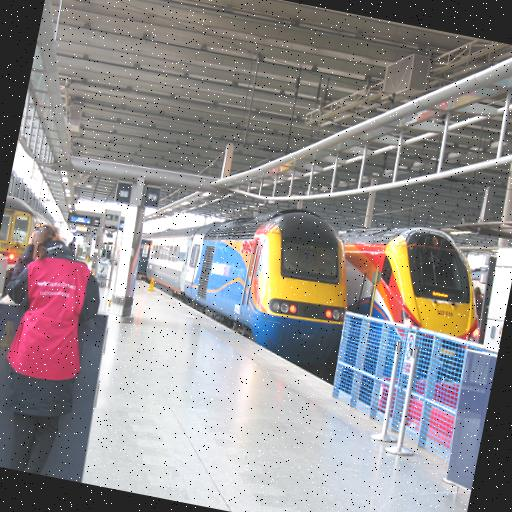platform_edge: (172, 305, 342, 396)
